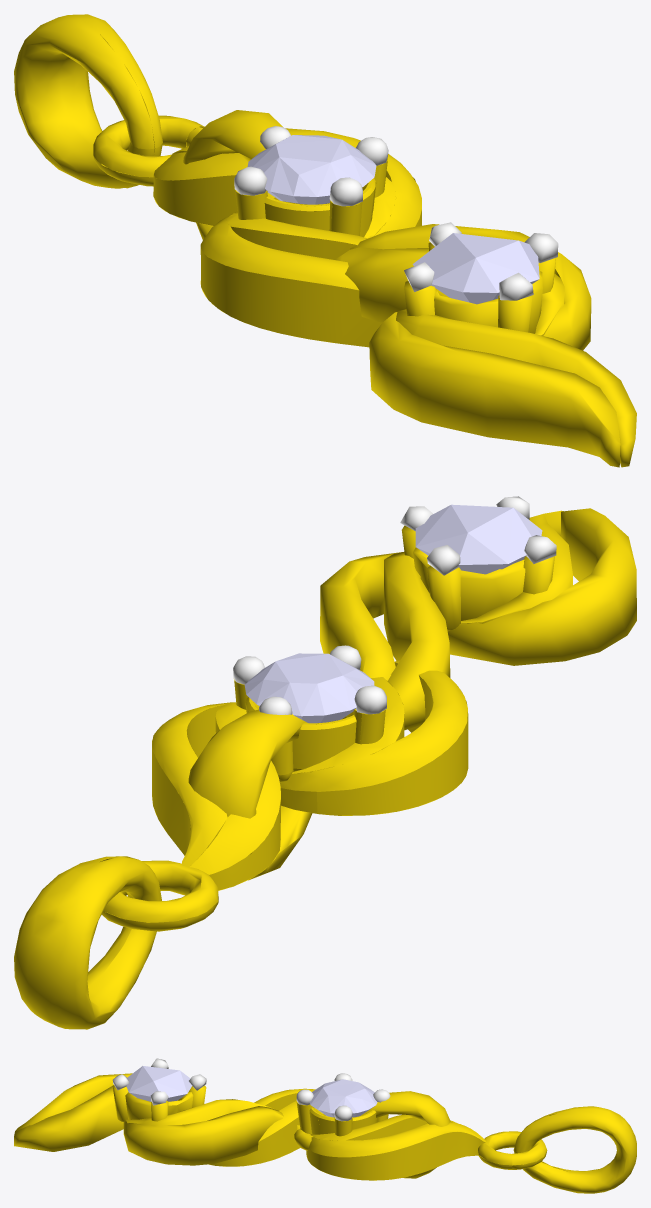
The model's file is DPN-D000675377.glb.
3 views of the same model, one above another, from view 1: azimuth 30°, elevation 25°; view 2: azimuth 150°, elevation 25°; view 3: azimuth 270°, elevation 25° (orthographic). The views are drawn at different scales.
Visible parts, largest first — view 1: highPolyMesh, lowPolyMesh; view 2: highPolyMesh, lowPolyMesh; view 3: highPolyMesh, lowPolyMesh.
Part boxes in pixels (x1,y1,x2,y2): highPolyMesh: (14, 14, 421, 347); lowPolyMesh: (183, 110, 636, 467); highPolyMesh: (14, 645, 468, 1029); lowPolyMesh: (188, 496, 636, 880); highPolyMesh: (208, 1073, 636, 1193); lowPolyMesh: (14, 1058, 450, 1178).
Bounding box in the file's own units: 0.00735 × 0.0065 × 0.0305.
